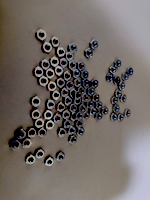nut: (36, 29, 47, 41), (38, 76, 49, 87), (15, 130, 27, 140), (9, 140, 21, 150), (42, 42, 52, 53), (56, 47, 66, 58), (59, 58, 69, 69), (47, 81, 57, 92), (25, 155, 36, 165), (50, 56, 59, 68), (34, 67, 44, 77), (56, 78, 66, 88), (31, 97, 41, 107), (31, 110, 41, 120), (27, 128, 37, 138), (22, 138, 32, 148), (63, 120, 73, 130), (68, 135, 78, 145), (90, 39, 99, 50), (63, 71, 72, 82), (51, 37, 60, 47), (68, 44, 78, 53), (85, 48, 94, 58), (41, 60, 50, 70), (46, 69, 55, 79), (77, 61, 86, 71), (61, 88, 70, 98), (63, 97, 73, 106), (62, 110, 71, 120), (46, 100, 56, 109), (43, 111, 53, 120), (35, 119, 45, 128), (45, 121, 55, 130), (37, 128, 47, 137), (56, 153, 66, 162), (44, 158, 54, 167), (62, 111, 72, 120), (77, 127, 86, 137), (58, 128, 67, 138), (82, 79, 91, 88), (66, 81, 75, 90), (87, 87, 96, 96), (95, 112, 104, 121), (36, 150, 45, 159), (53, 114, 62, 123), (69, 104, 78, 113), (75, 120, 84, 129), (68, 127, 77, 136), (55, 66, 63, 76), (69, 61, 77, 71), (52, 91, 60, 101), (71, 112, 79, 122), (66, 53, 74, 62), (91, 79, 99, 88), (86, 100, 95, 108), (89, 107, 97, 116), (79, 104, 87, 113), (114, 59, 122, 68), (106, 74, 115, 82), (115, 89, 123, 98), (112, 105, 121, 113), (124, 109, 132, 118), (110, 113, 118, 122), (57, 103, 65, 112), (76, 112, 84, 121), (73, 69, 80, 79), (74, 79, 82, 87), (81, 71, 89, 79), (78, 87, 86, 95), (109, 66, 117, 74), (120, 95, 128, 103), (118, 114, 126, 122), (70, 89, 77, 98), (82, 94, 89, 103), (96, 101, 103, 110), (102, 106, 109, 115), (83, 112, 90, 121), (92, 95, 100, 102), (75, 92, 82, 100), (74, 98, 82, 105), (127, 68, 134, 76), (122, 74, 129, 82), (119, 83, 126, 90), (111, 98, 119, 104)
